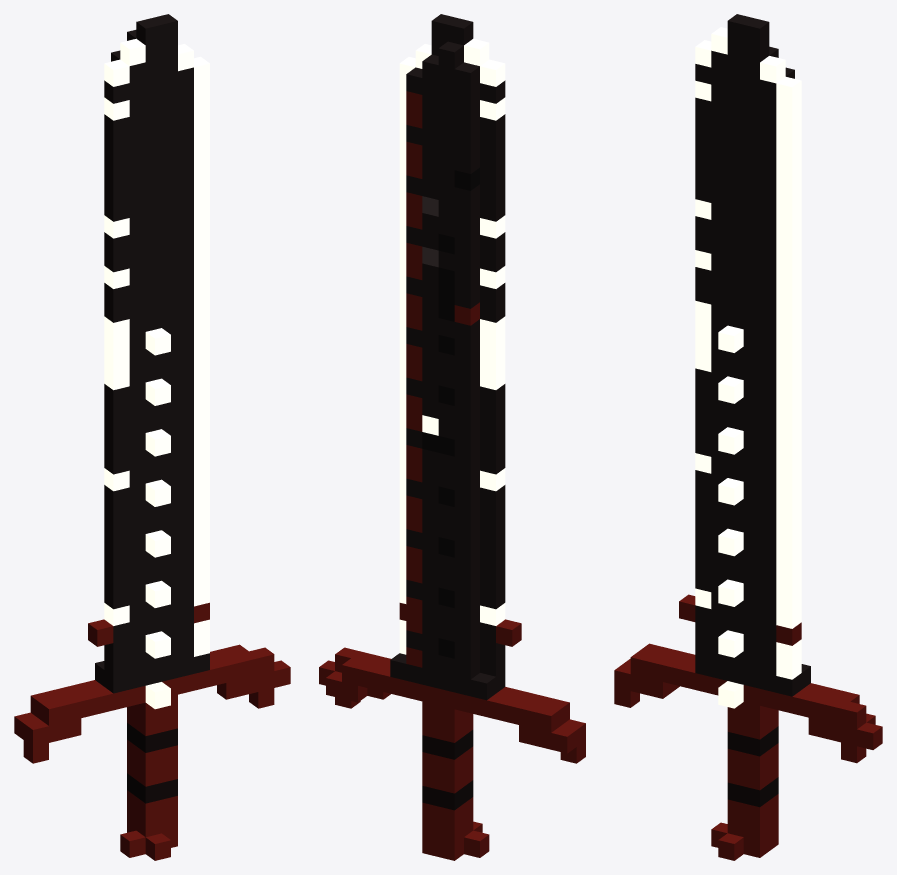
File: greatsword_masterwork_lod1.glb
3 renders of one model, left to right at view 1: azimuth 30°, elevation 25°; view 2: azimuth 150°, elevation 25°; view 3: azimuth 330°, elevation 25°, orthographic.
Parts seen in each view (by area): view 1: greatsword_masterwork_lod1; view 2: greatsword_masterwork_lod1; view 3: greatsword_masterwork_lod1.
Boxes of the visible parts, <box> form: greatsword_masterwork_lod1: <box>14,14,290,860</box>; greatsword_masterwork_lod1: <box>319,14,585,860</box>; greatsword_masterwork_lod1: <box>614,14,882,860</box>.
Size of the model in its own units: 0.48 by 1.47 by 0.09.
